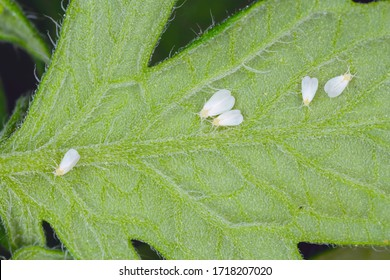Tobacco Whitefly: (196, 80, 251, 134), (316, 55, 358, 100), (295, 63, 325, 113), (54, 139, 84, 186)
